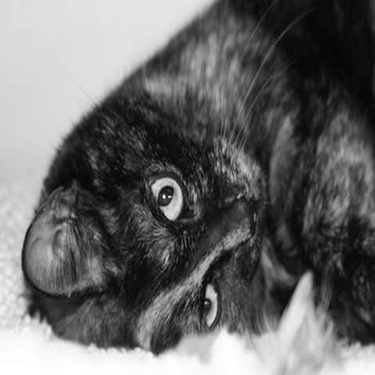cat: (17, 10, 374, 364)
